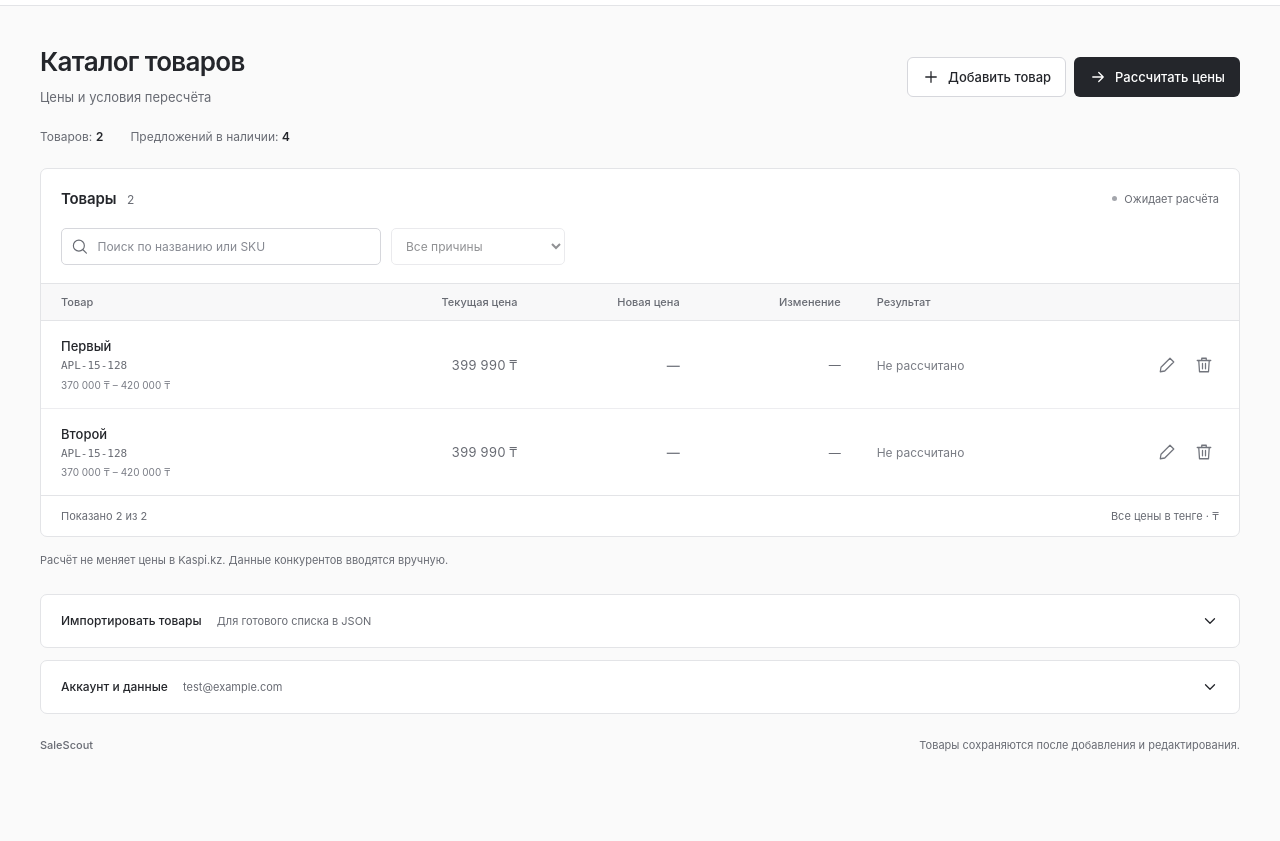
Test: Product workspace › edits and deletes the correct duplicate SKU, invalidating old results
Expected: the button "Добавить товар" is enabled, [907,57,1066,97]
Click the button "Рассчитать цены": (1157, 77) [1074,57,1240,97]
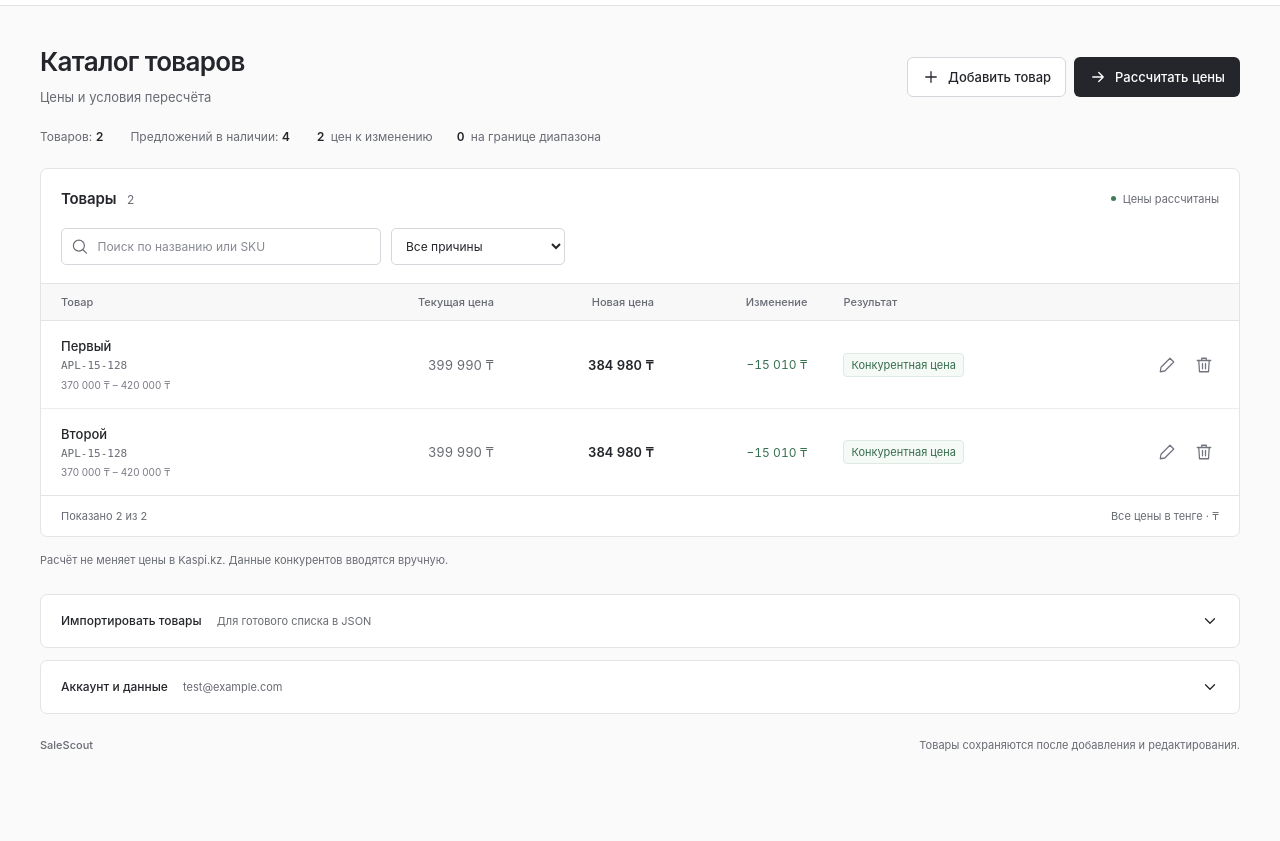
Expected: the text "Цены рассчитаны" is shown, [1111,192,1219,206]
Click the button named "Редактировать Второй": (1167, 452) [1150,435,1184,469]
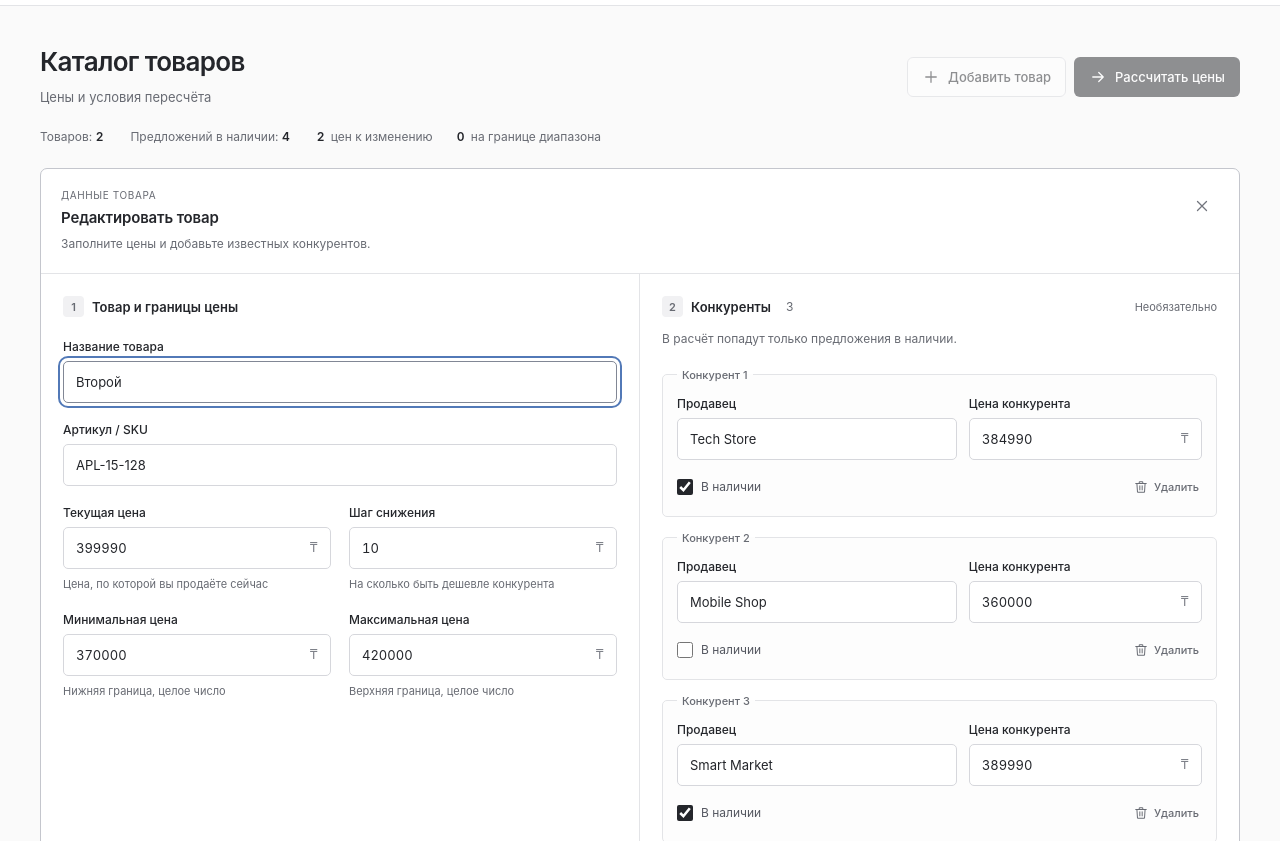
Replace the text in the field labelled "Название товара" with "Изменённый": (340, 382) [63,362,617,404]
(page scrolled)
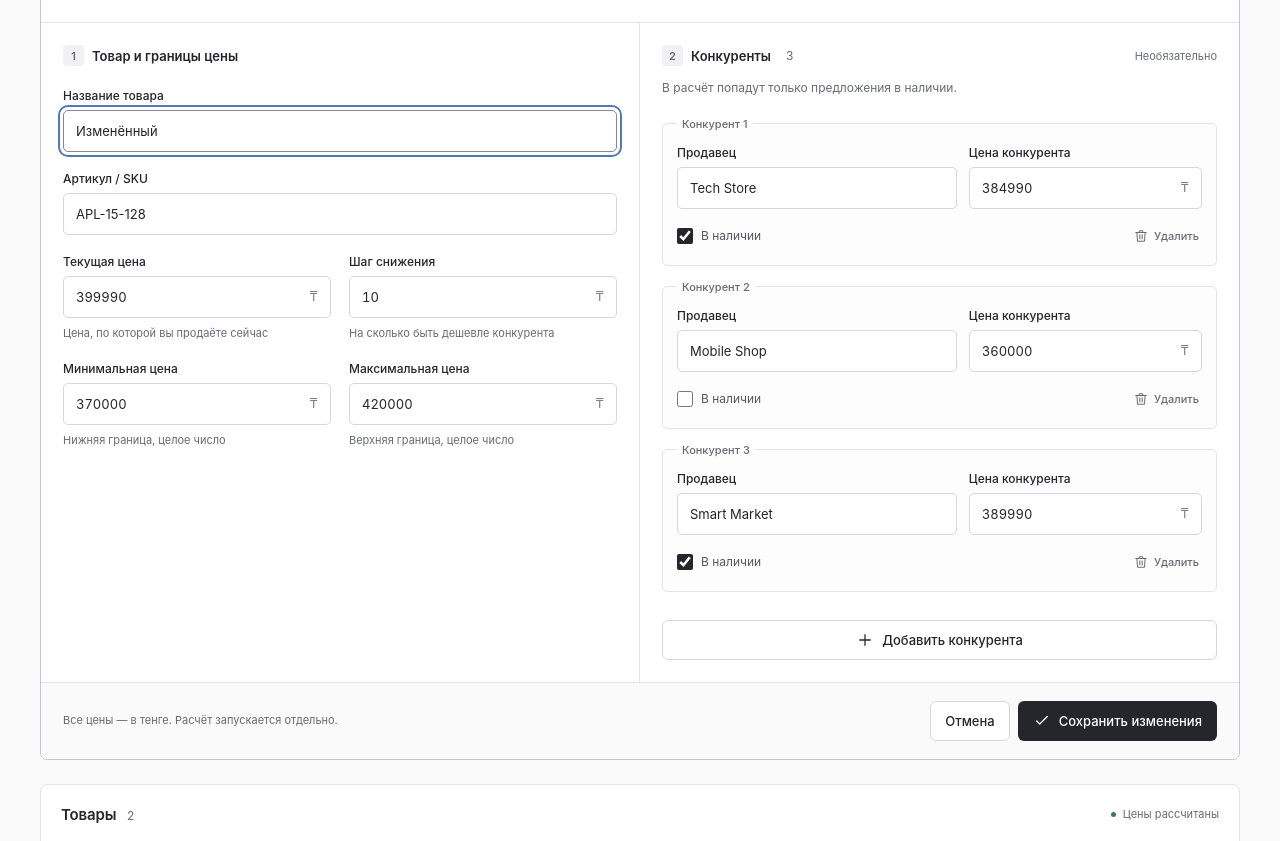
Submit the form named "Форма товара"
(page scrolled)
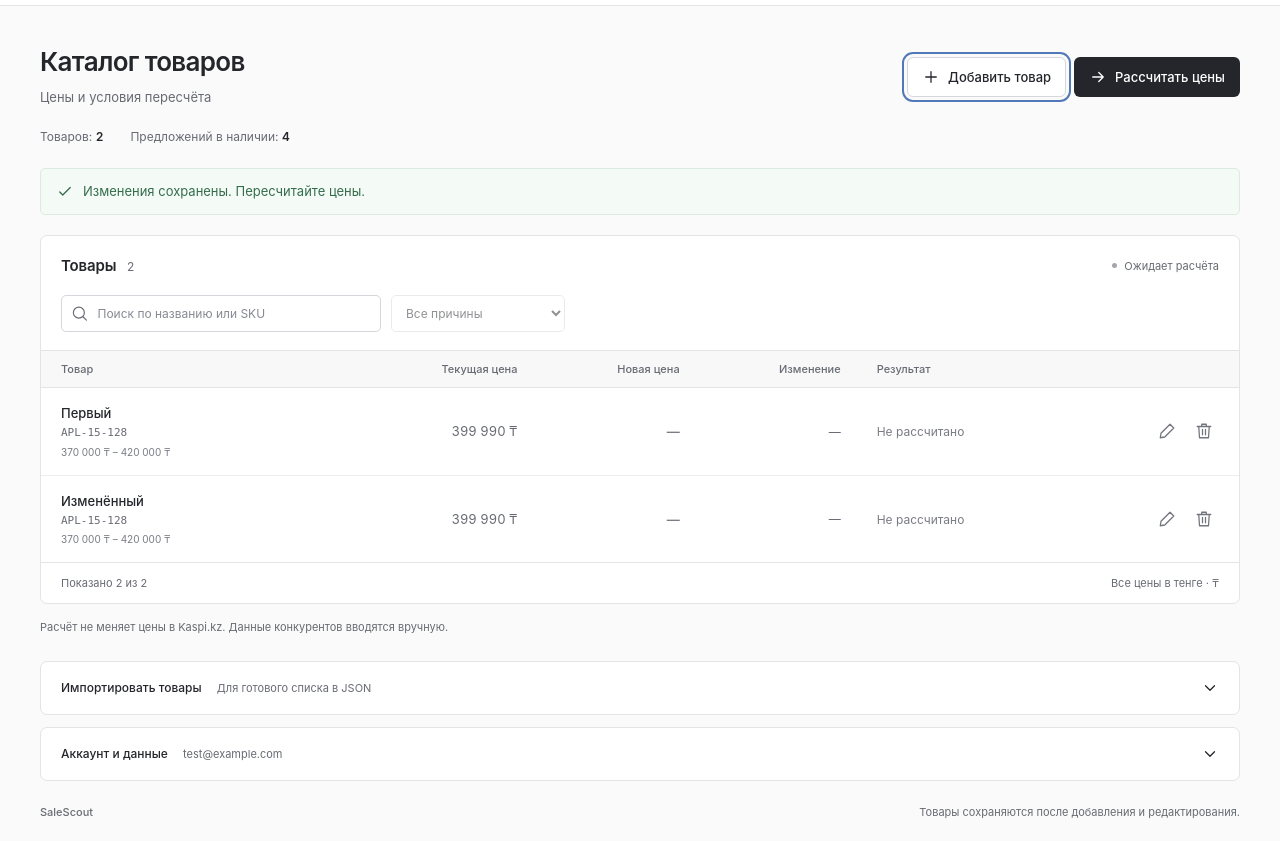
Expected: the text "Первый" is shown, [61,405,112,421]
Expected: the text "Изменённый" is shown, [61,493,144,509]
Expected: the text "Цены рассчитаны" is gone
Click the button named "Удалить Первый": (1204, 431) [1187,414,1221,448]
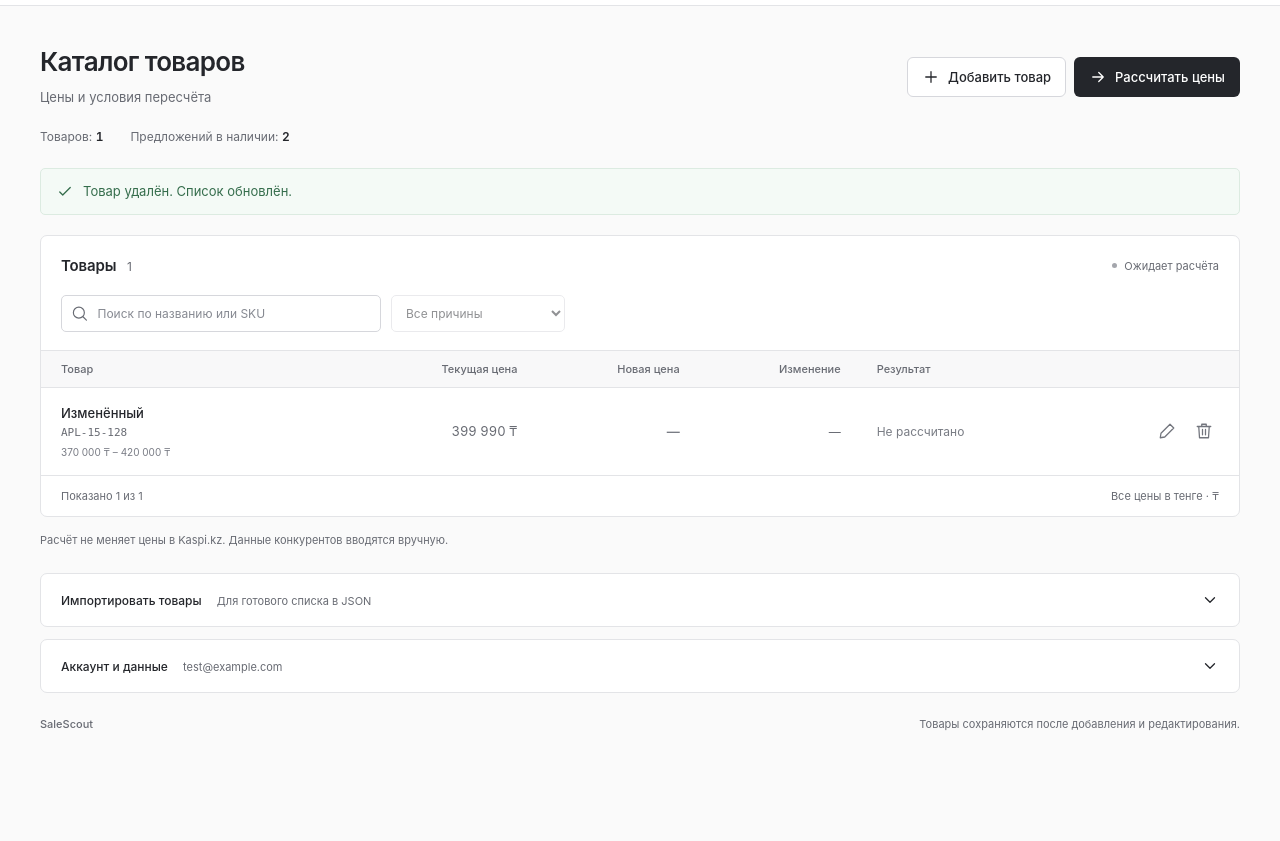
Expected: the text "Изменённый" is shown, [61,405,144,421]
